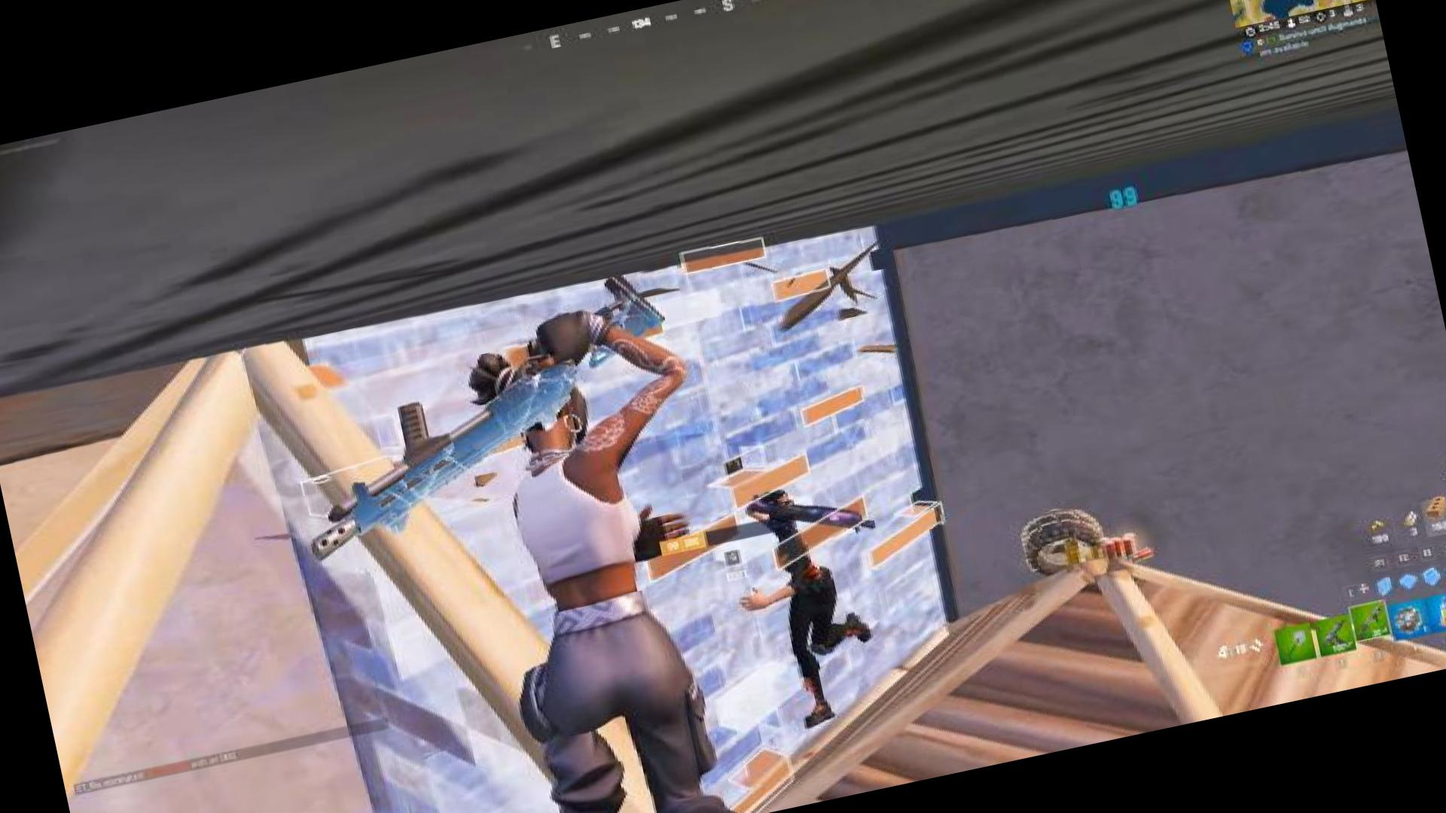player: (386, 314, 743, 813), (719, 472, 906, 708)
